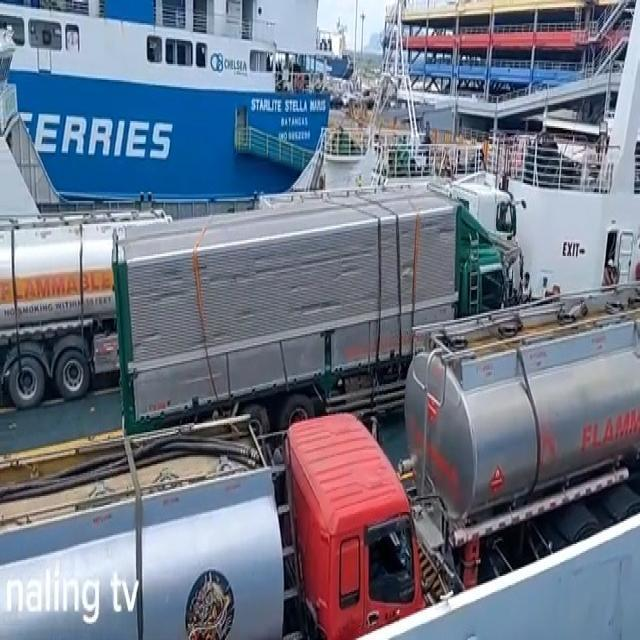truck: (111, 182, 512, 444), (0, 416, 423, 640), (393, 282, 640, 602), (0, 202, 182, 408)
